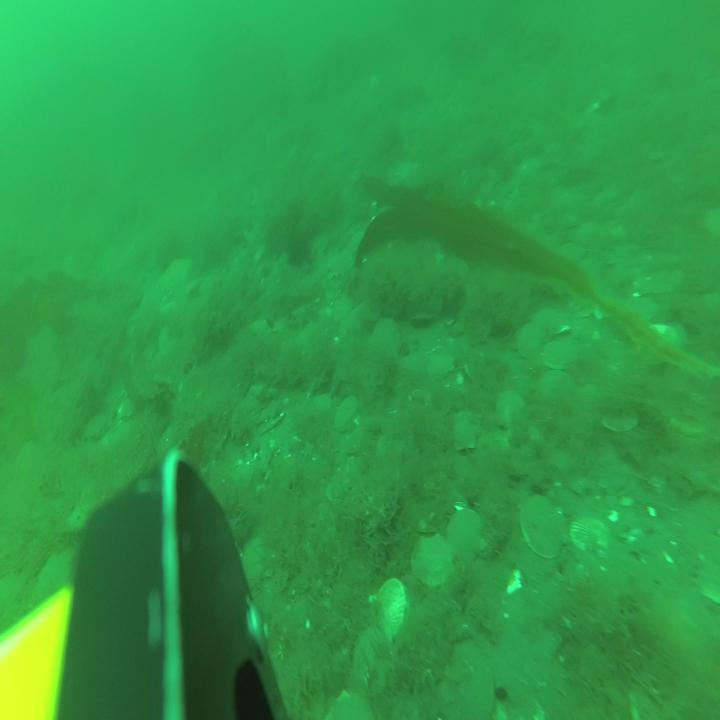echinus: (286, 231, 314, 272)
scallop: (438, 638, 496, 720), (517, 486, 572, 564), (352, 624, 396, 698), (410, 531, 456, 589), (446, 502, 484, 570), (240, 530, 286, 586), (377, 572, 411, 640), (574, 512, 612, 562), (448, 405, 484, 454), (599, 402, 641, 438), (368, 316, 402, 360), (327, 687, 371, 720), (542, 339, 582, 371), (496, 386, 524, 431), (515, 319, 542, 360), (333, 394, 360, 434), (532, 306, 560, 336), (429, 350, 457, 378), (311, 389, 333, 416), (410, 306, 434, 330)
starfish: (162, 255, 192, 294)
